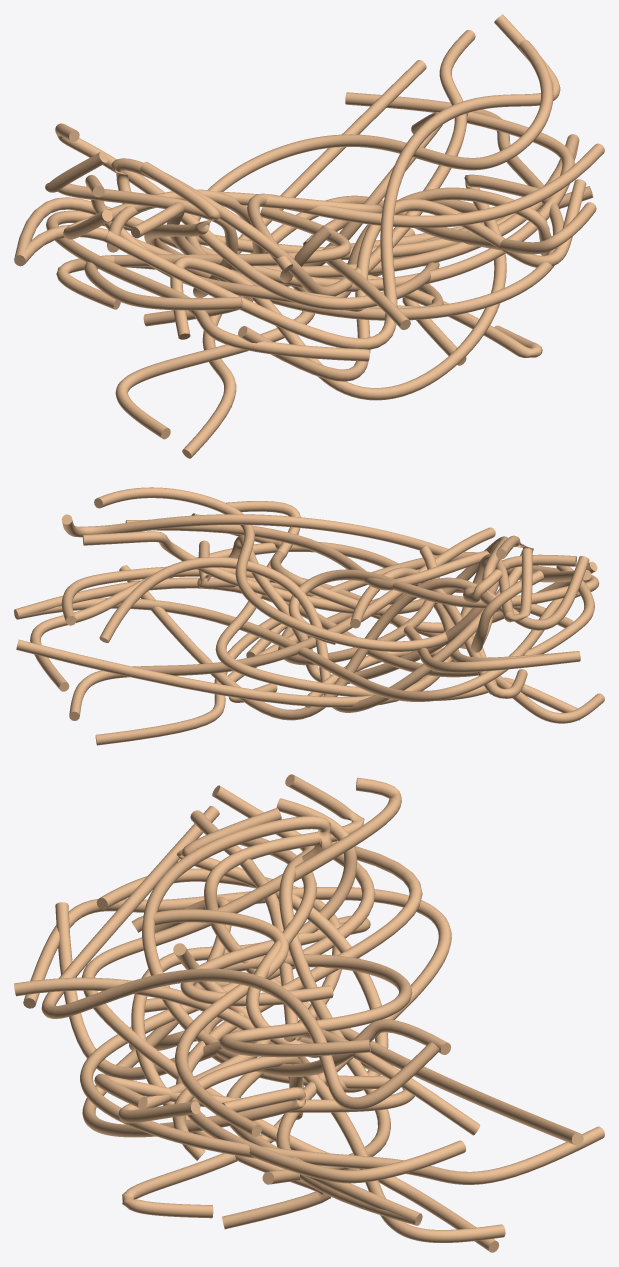
File: noodles.fbx
3 views of the same model, one above another, from view 1: azimuth 30°, elevation 25°; view 2: azimuth 150°, elevation 25°; view 3: azimuth 270°, elevation 25° (orthographic). The views are drawn at different scales.
Parts seen in each view (by area): view 1: NurbsPath.006; view 2: NurbsPath.006; view 3: NurbsPath.006.
Part boxes in pixels (x1,y1,x2,y2): NurbsPath.006: (14, 14, 604, 458); NurbsPath.006: (14, 487, 604, 745); NurbsPath.006: (14, 774, 604, 1252).
Size of the model in its own units: 303 by 128 by 240.
